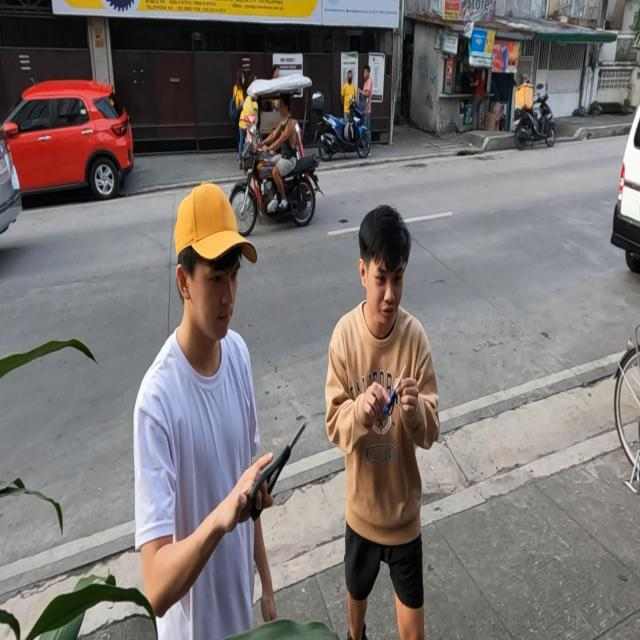scissor: (249, 418, 310, 520), (382, 364, 407, 417)
